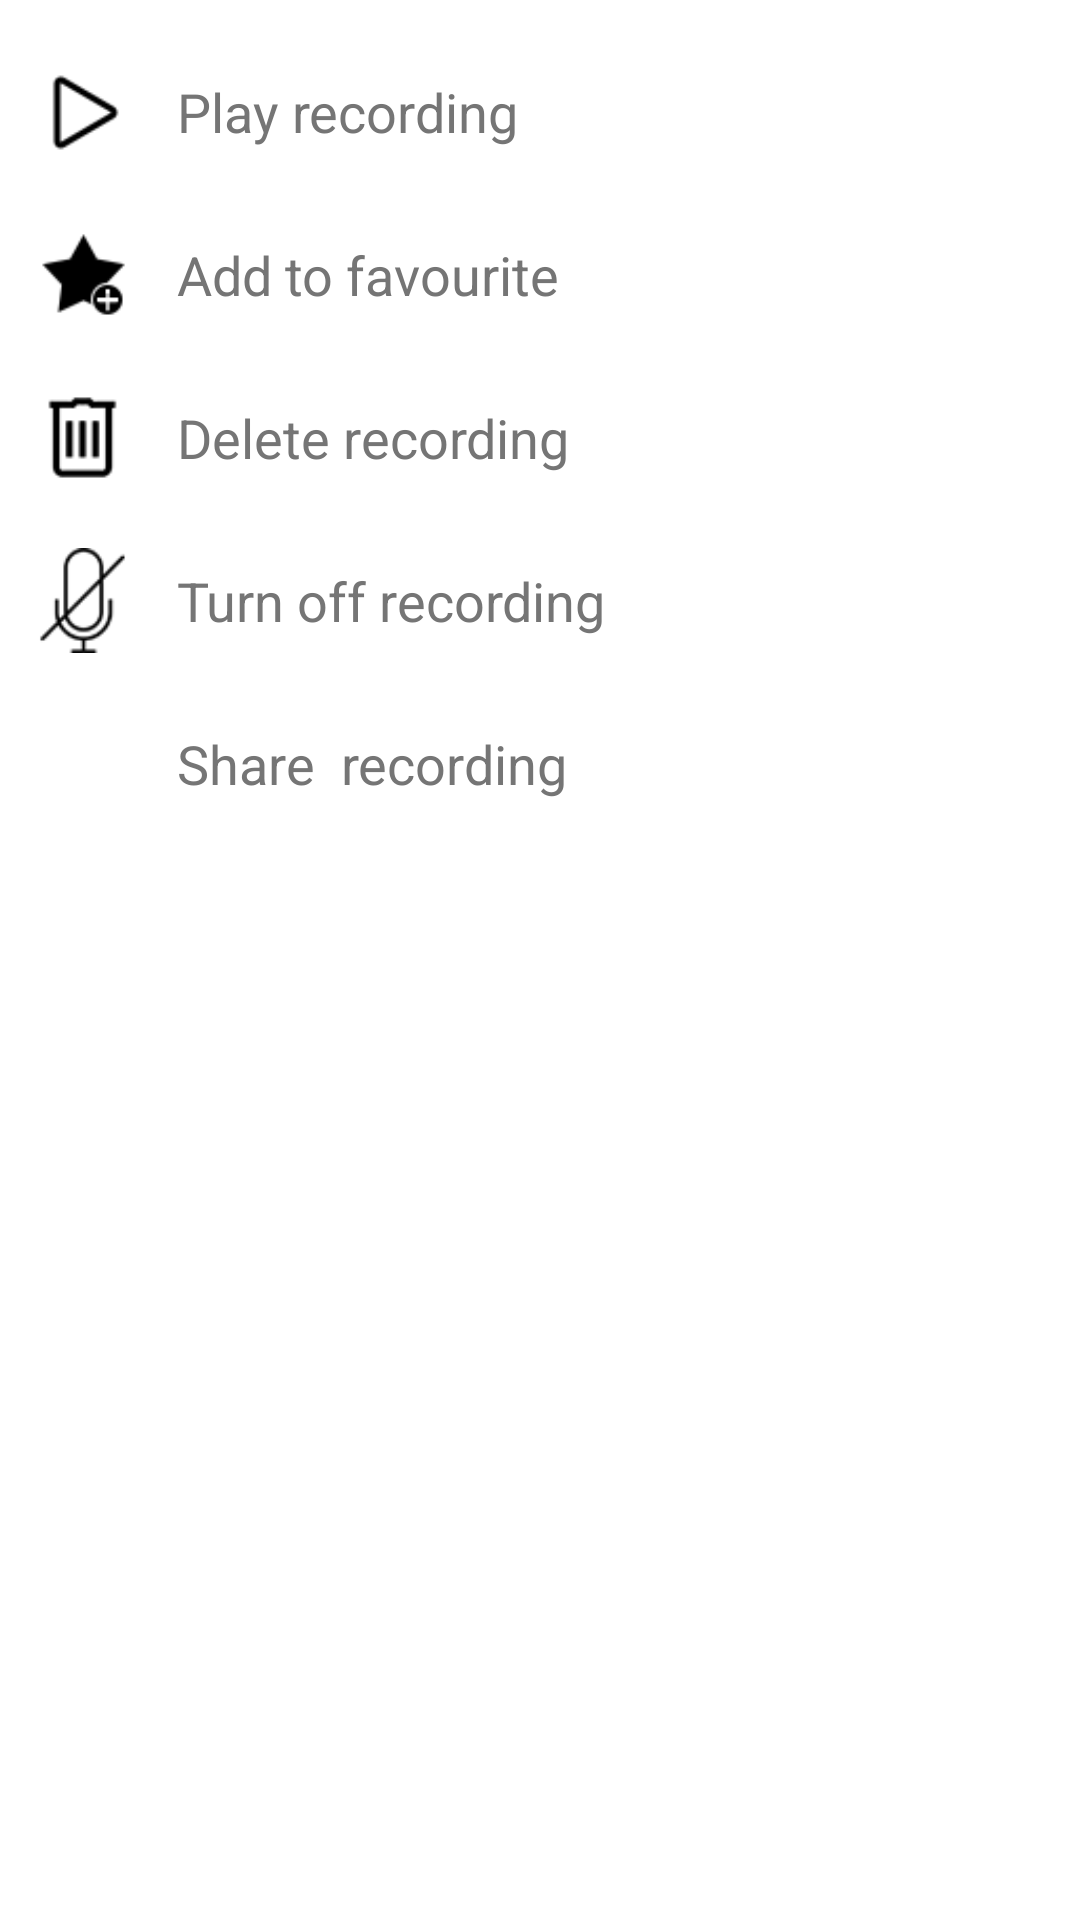

Named icons in this screenshot (1080×1920) and their centers, point (x, y):
favorite: point (83, 274)
muted: point (82, 600)
